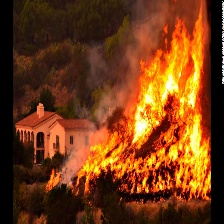fire: (77, 11, 208, 200)
